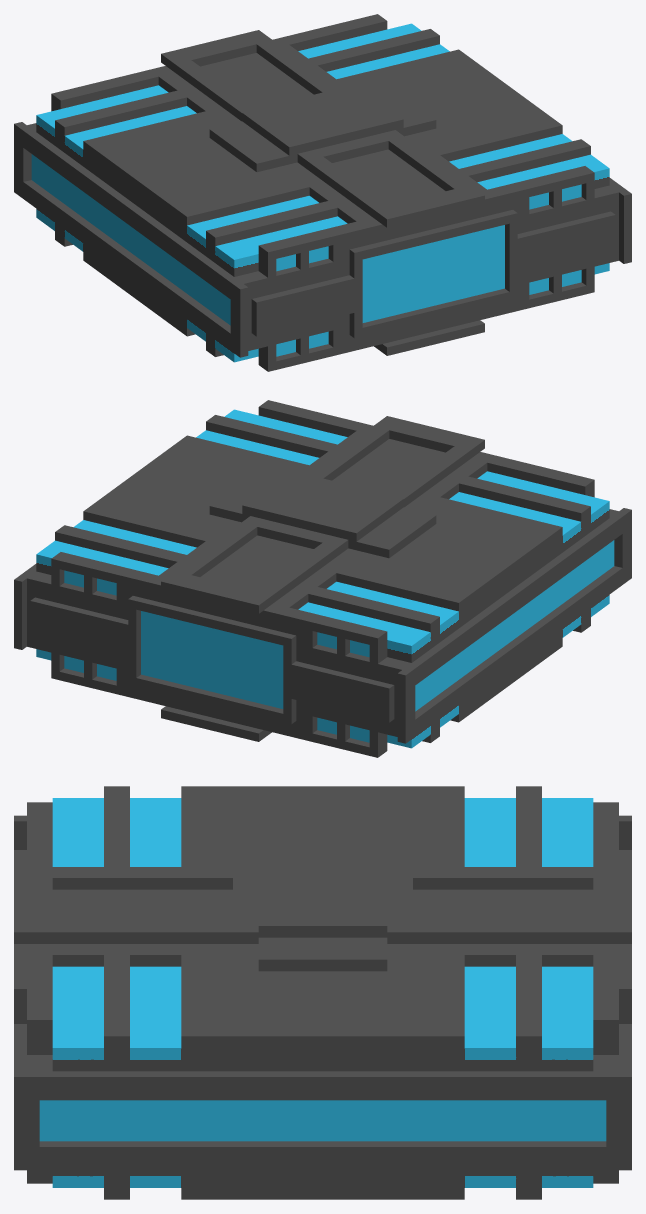
The model's file is alien_saucer2a.fbx.
3 views of the same model, one above another, from view 1: azimuth 30°, elevation 25°; view 2: azimuth 150°, elevation 25°; view 3: azimuth 270°, elevation 25° (orthographic). The views are drawn at different scales.
Parts seen in each view (by area): view 1: alien_saucer2a; view 2: alien_saucer2a; view 3: alien_saucer2a.
Part boxes in pixels (x1,y1,x2,y2): alien_saucer2a: (14, 14, 631, 371); alien_saucer2a: (14, 400, 631, 757); alien_saucer2a: (14, 786, 631, 1199).
Size of the model in its own units: 4.8 by 4.8 by 1.8.
1 material, 1 textured.
